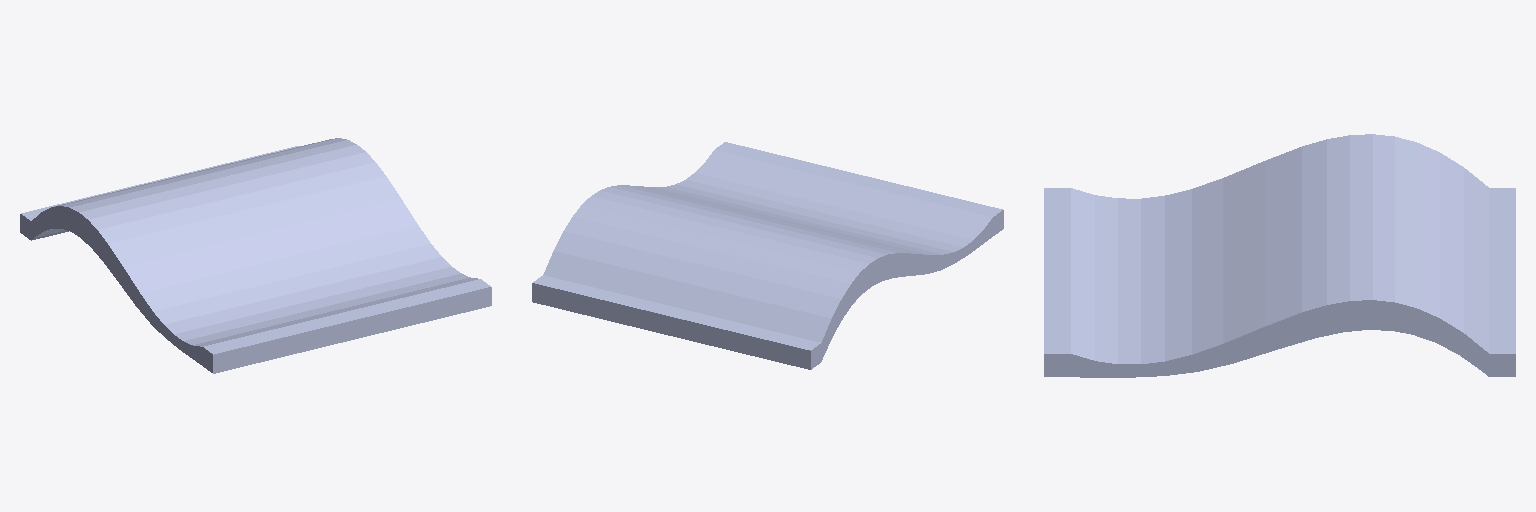
The robot description file, URDF, robot "freeform_cfrp":
<?xml version="1.0" encoding="utf-8"?>
<!-- This URDF was automatically created by SolidWorks to URDF Exporter! Originally created by [author] ([email redacted]) 
     Commit Version: 1.5.1-0-g916b5db  Build Version: 1.5.7152.31018
     For more information, please see http://wiki.ros.org/sw_urdf_exporter -->
<robot
  name="freeform_cfrp">
  <link
    name="freeform_cfrp">
    <inertial>
      <origin
        xyz="-5.9632E-08 0.0076079 0.014784"
        rpy="0 0 0" />
      <mass
        value="0.1" />
      <inertia
        ixx="0.00068931"
        ixy="1.1085E-08"
        ixz="2.7323E-09"
        iyy="0.00052816"
        iyz="6.1183E-05"
        izz="0.0011724" />
    </inertial>
    <visual>
      <origin
        xyz="0 0 0"
        rpy="0 0 0" />
      <geometry>
        <mesh
          filename="package://freeform_cfrp/meshes/freeform_cfrp.STL" />
      </geometry>
      <material
        name="">
        <color
          rgba="0.79216 0.81961 0.93333 1" />
        <texture
          filename="package://freeform_cfrp/textures/" />
      </material>
    </visual>
    <collision>
      <origin
        xyz="0 0 0"
        rpy="0 0 0" />
      <geometry>
        <mesh
          filename="package://freeform_cfrp/meshes/freeform_cfrp.STL" />
      </geometry>
    </collision>
  </link>
</robot>

--- Facts derived from the render (not from the file) ---
Views: 3 orthographic renders of the robot side by side, from view 1: azimuth 30°, elevation 25°; view 2: azimuth 150°, elevation 25°; view 3: azimuth 270°, elevation 25°.
Model freeform_cfrp with 1 links and 0 joints (none), rooted at freeform_cfrp, posed all joints at 0.
Links seen in each view (by area): view 1: freeform_cfrp; view 2: freeform_cfrp; view 3: freeform_cfrp.
Boxes of the visible links, left/top/right/bottom form: freeform_cfrp: left=20, top=138, right=491, bottom=373; freeform_cfrp: left=532, top=142, right=1003, bottom=369; freeform_cfrp: left=1044, top=134, right=1515, bottom=377.
Size in the robot's own frame: 0.15 by 0.18 by 0.0328 metres.
1 mesh visuals loaded from 1 distinct referenced files (1 binary STL).